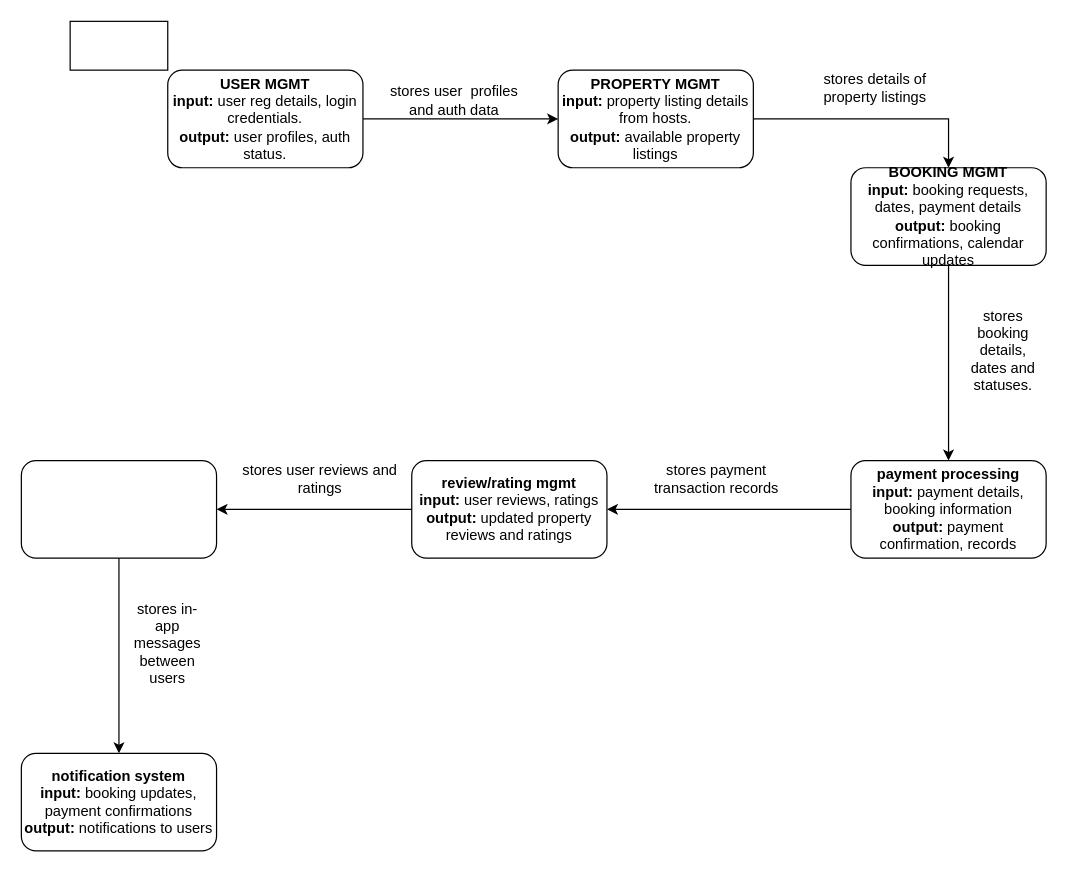
The diagram is 1068 pixels wide and 872 high, and some of its shapes have lost their labels. The shapes that lost their labels are listed below. From the top down, each one's centre as x and y in pixels, then its label:
At point 118,45: "User".
At point 118,508: "messaging system output: messages from users input: sent and received messages".
